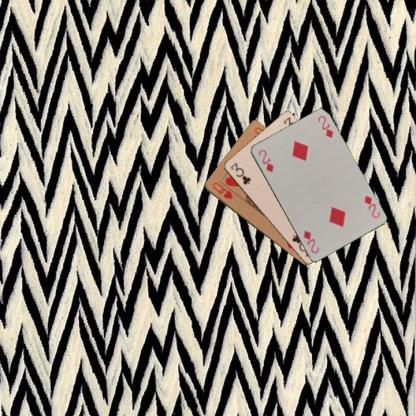2d: (361, 193, 381, 220), (255, 147, 275, 173)
3c: (228, 160, 252, 186)
Qh: (210, 180, 233, 200)
